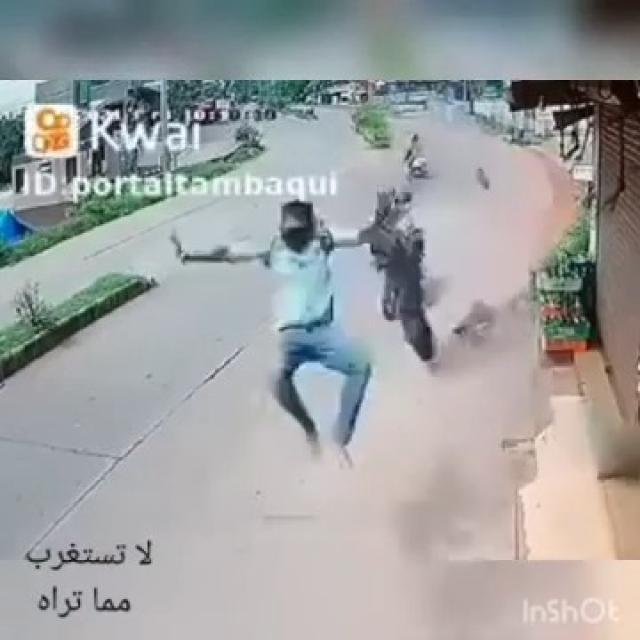accident: (355, 185, 457, 363)
